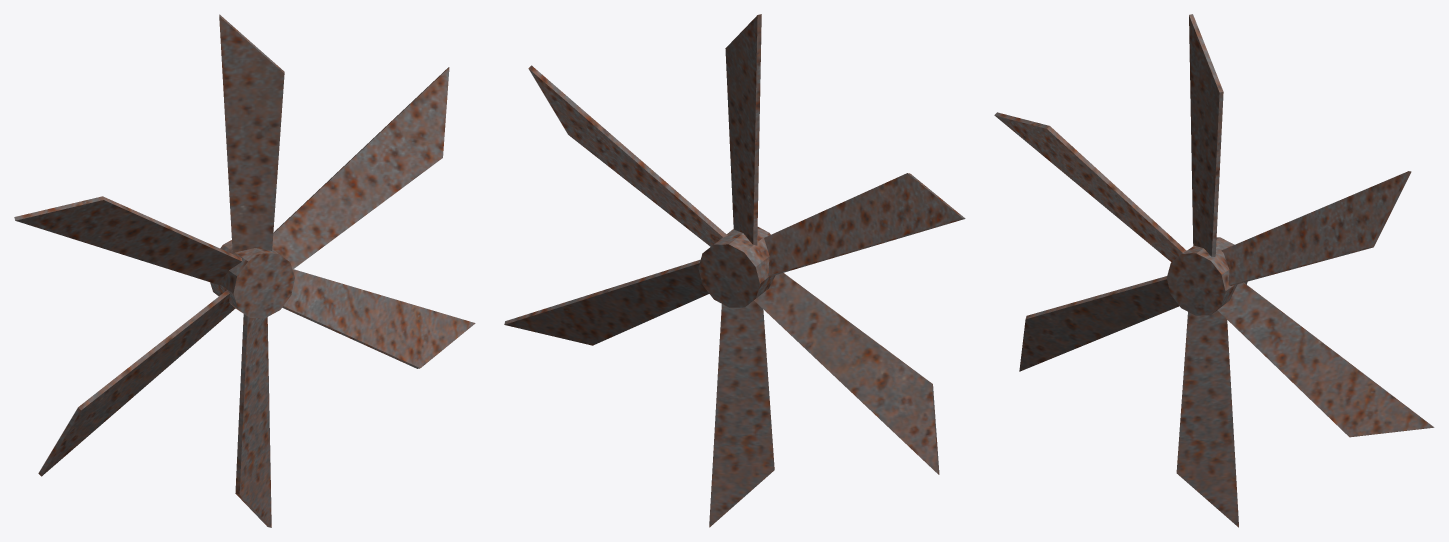
Rendered from SM_WestVillage_Ventilo.fbx.
3 views of the same model, side by side, from view 1: azimuth 30°, elevation 25°; view 2: azimuth 150°, elevation 25°; view 3: azimuth 330°, elevation 25° (orthographic). The views are drawn at different scales.
Parts seen in each view (by area): view 1: SM_WestVillage_Ventilo; view 2: SM_WestVillage_Ventilo; view 3: SM_WestVillage_Ventilo.
Part boxes in pixels (left/top/right/bottom): SM_WestVillage_Ventilo: left=14, top=14, right=475, bottom=527; SM_WestVillage_Ventilo: left=504, top=14, right=965, bottom=527; SM_WestVillage_Ventilo: left=994, top=14, right=1434, bottom=527.
Bounding box in the file's own units: 81.38 × 88.61 × 8.04.
